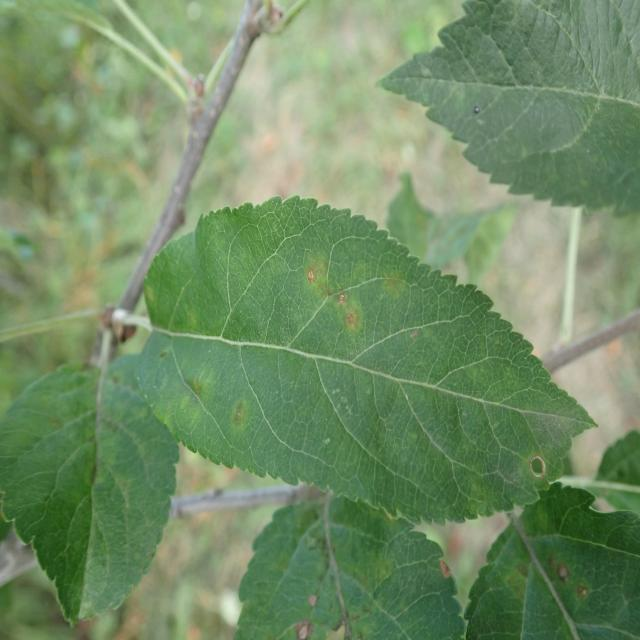scab: (141, 220, 573, 519), (22, 320, 124, 598)
